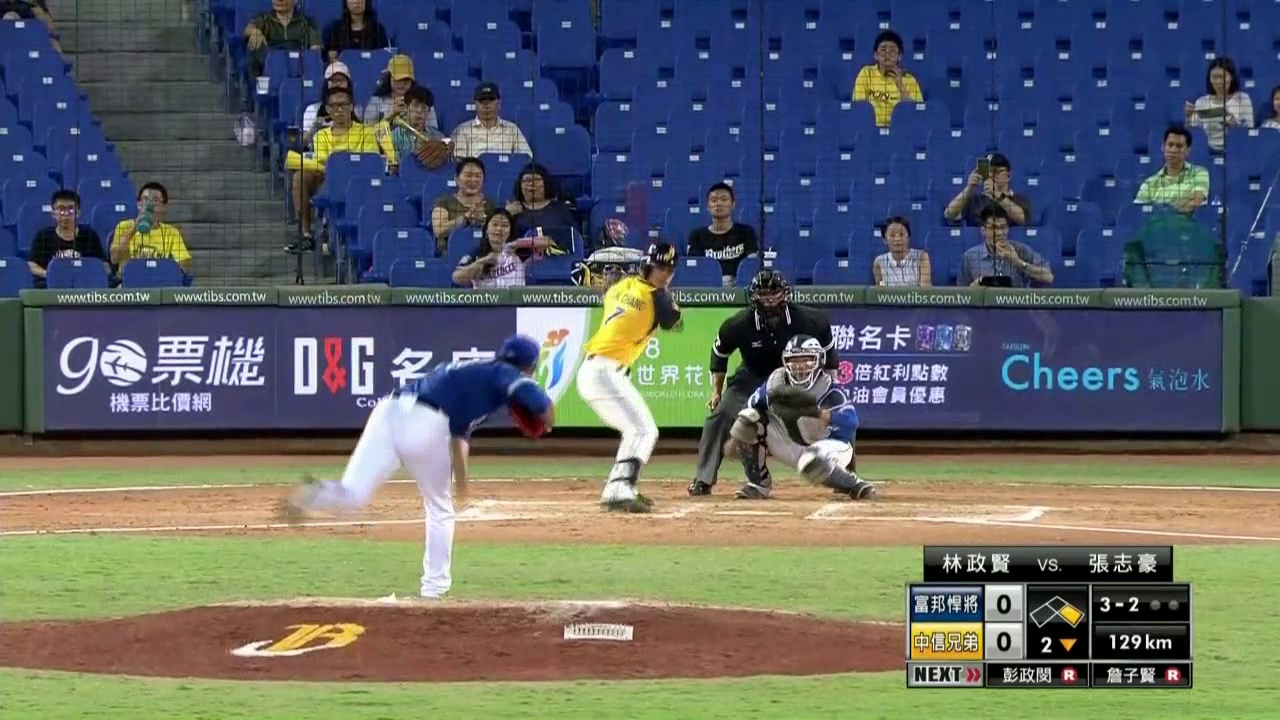ball: (612, 302, 631, 321)
base: (1029, 591, 1086, 629)
bat: (623, 177, 656, 268)
out: (1145, 585, 1187, 620)
score1: (988, 588, 1021, 618)
score2: (989, 628, 1019, 656)
session: (1029, 631, 1085, 657)
speed: (1099, 628, 1179, 656)
strikeball: (1093, 588, 1143, 624)
